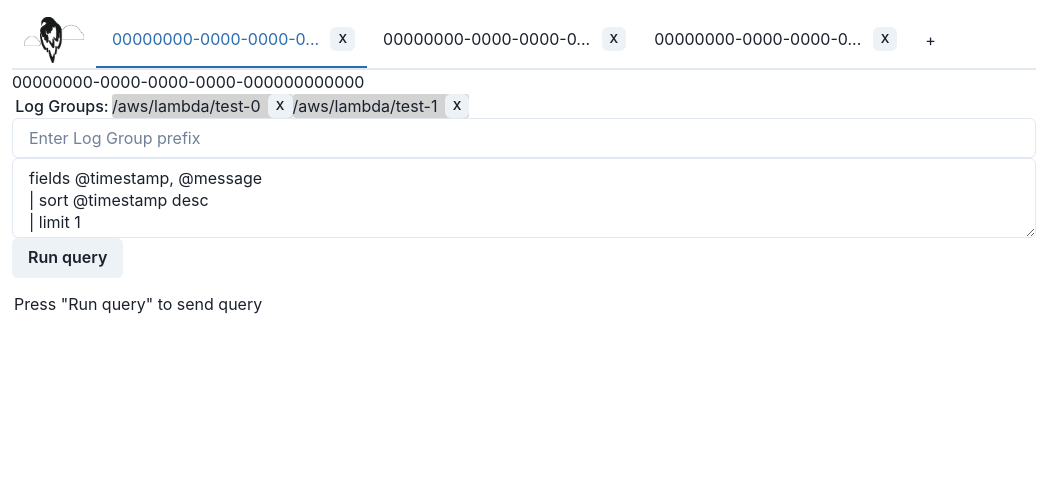
Test case: dashboard › should display results after pressing Run Query button
Expected: the text "Test message 1" is not shown
Expected: the text "Test message 2" is not shown
Click the button "Run query" at point(68, 258), box [12,238,123,278]
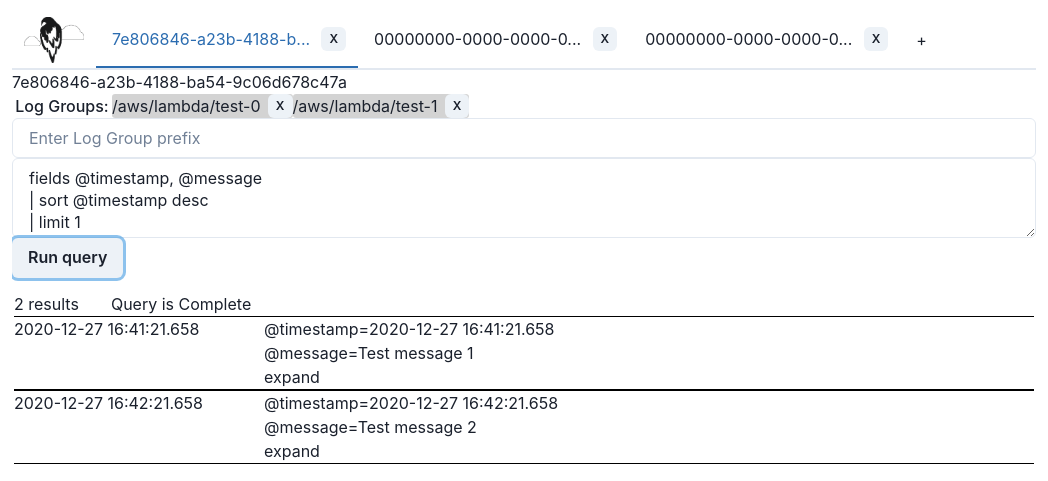
Expected: the text "Test message 1" is shown, [358,343,474,363]
Expected: the text "Test message 2" is shown, [358,417,477,437]
